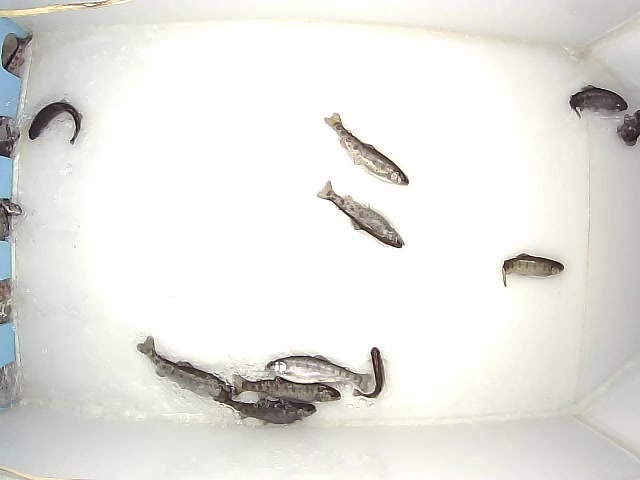fish: (320, 110, 412, 187), (132, 334, 231, 404), (313, 179, 407, 248), (268, 351, 376, 401), (212, 389, 320, 429), (228, 373, 341, 402), (501, 248, 567, 294), (26, 98, 82, 152), (566, 82, 631, 119), (353, 343, 384, 400)
